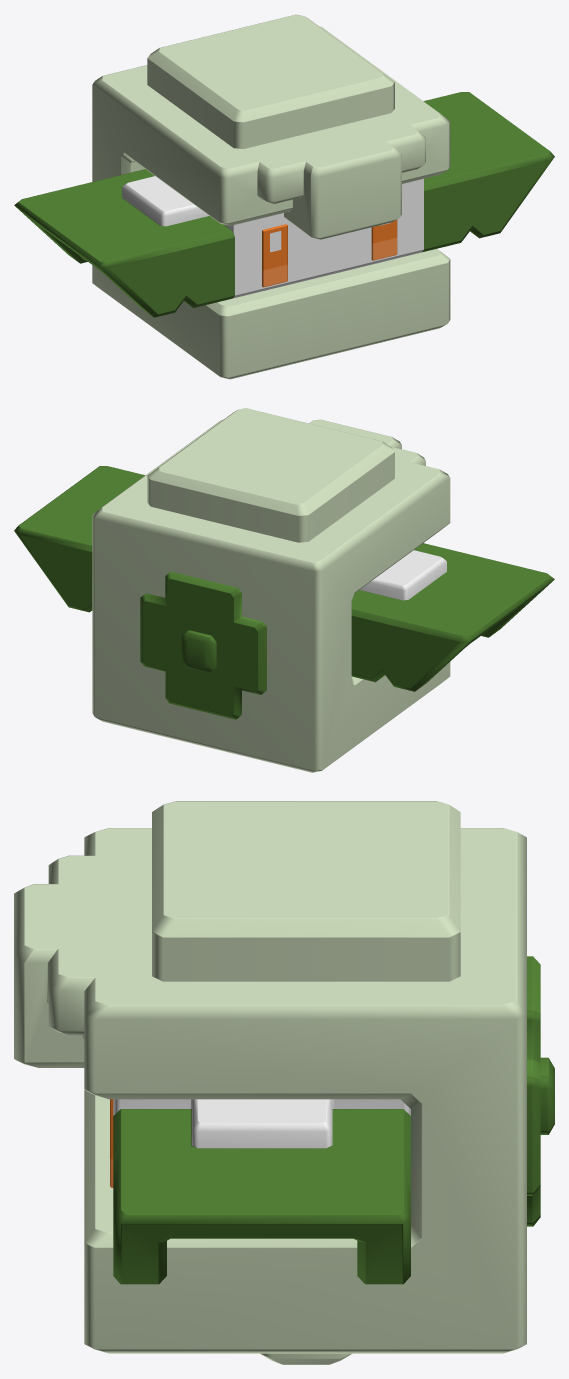
3 views of the same model, one above another, from view 1: azimuth 30°, elevation 25°; view 2: azimuth 150°, elevation 25°; view 3: azimuth 270°, elevation 25° (orthographic). The views are drawn at different scales.
Parts seen in each view (by area): view 1: 0546_cottonee; view 2: 0546_cottonee; view 3: 0546_cottonee.
Part boxes in pixels (x1,y1,x2,y2): 0546_cottonee: (14, 14, 554, 379); 0546_cottonee: (14, 408, 554, 772); 0546_cottonee: (14, 801, 554, 1364).
Bounding box in the file's own units: 2.26 × 1.25 × 1.4.
Materials: 1 (1 with a texture image).
